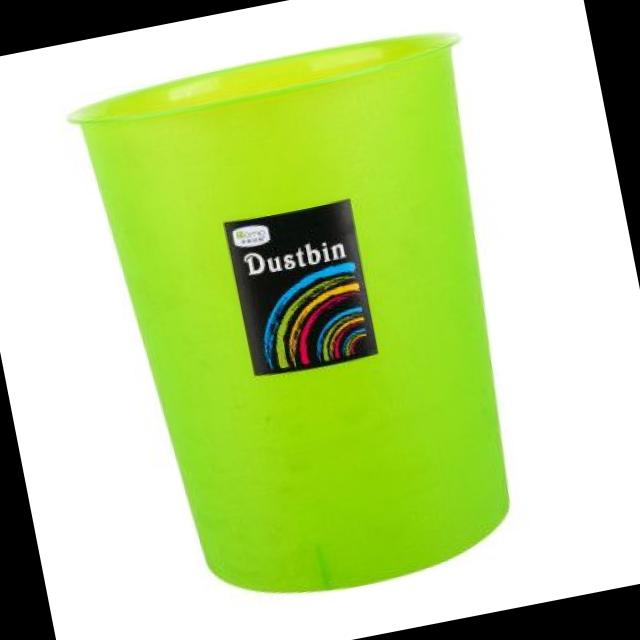dustbin: (53, 14, 570, 632)
